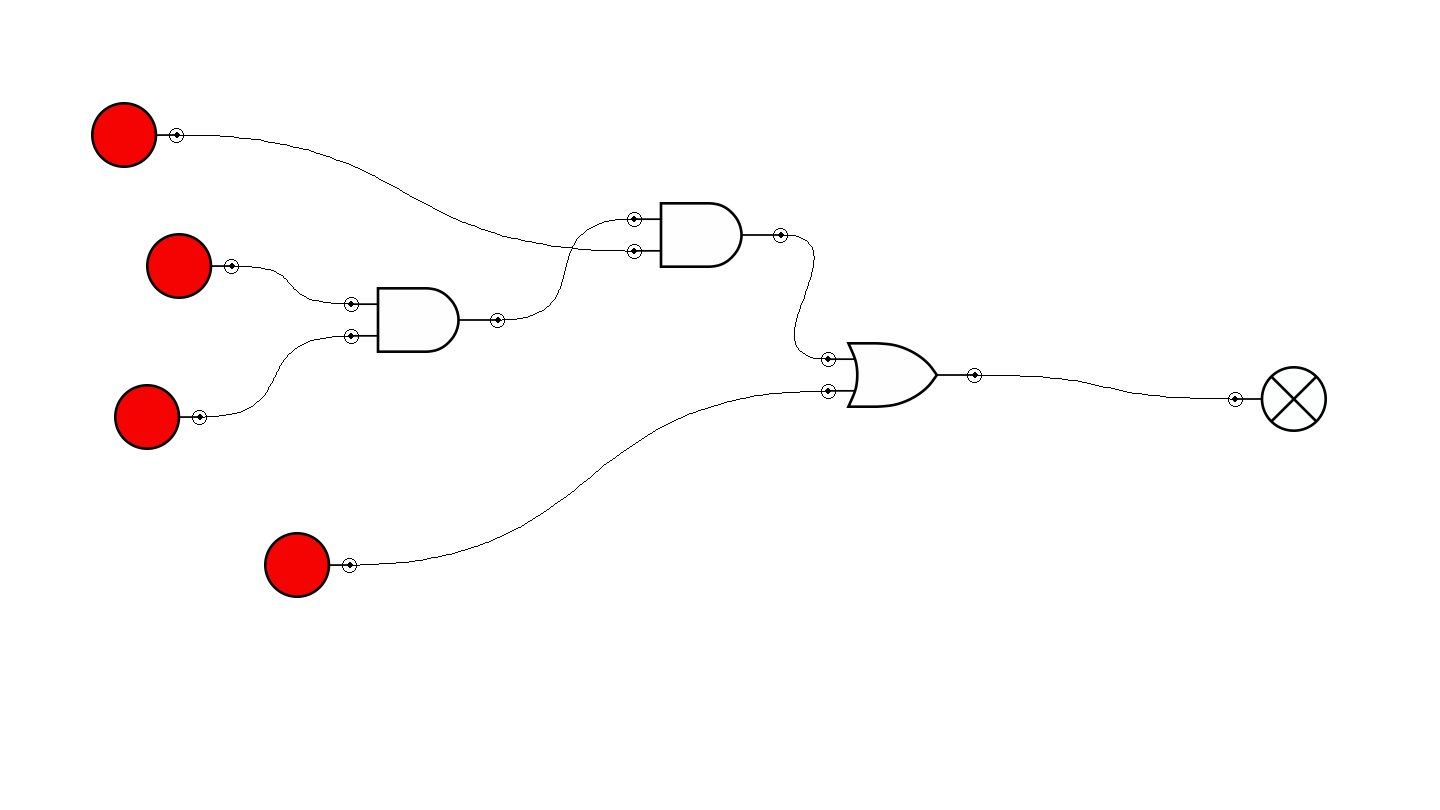and: (344, 287, 505, 353), (627, 202, 788, 268)
bulb: (1228, 366, 1327, 432)
or: (821, 342, 982, 408)
switch_False: (91, 102, 184, 168), (146, 233, 239, 299), (114, 384, 207, 450), (264, 532, 357, 598)
